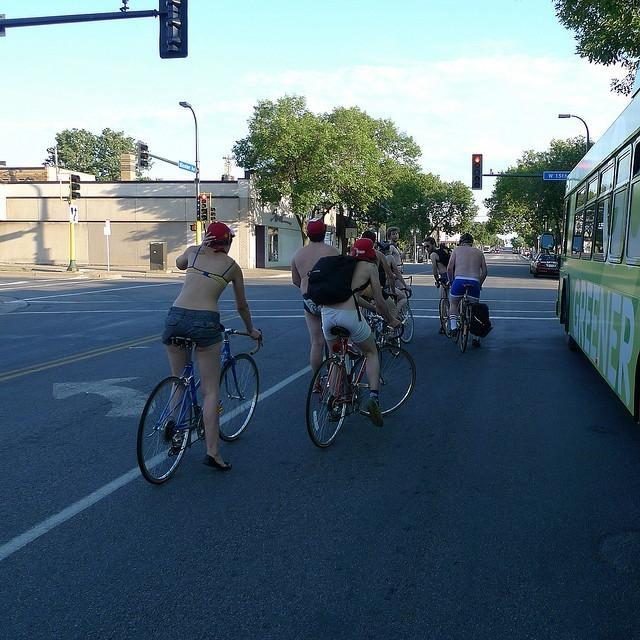bicycle: (136, 324, 264, 485), (304, 316, 414, 446), (454, 284, 472, 350), (437, 276, 452, 340), (398, 302, 414, 342), (404, 274, 414, 287)
bus: (556, 90, 640, 420)
car: (529, 252, 559, 279)
